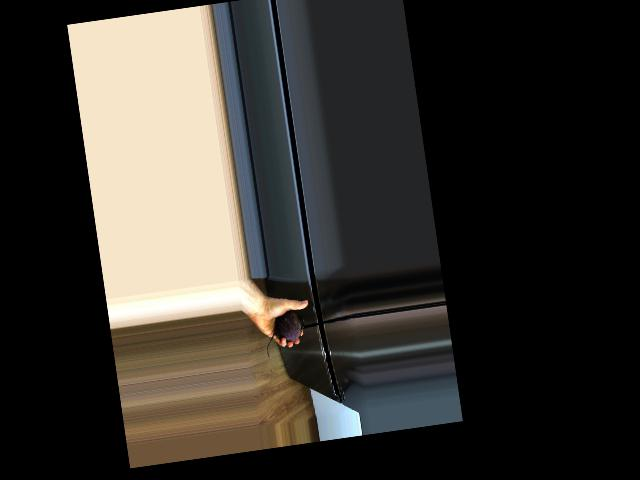beet: (262, 309, 308, 358)
